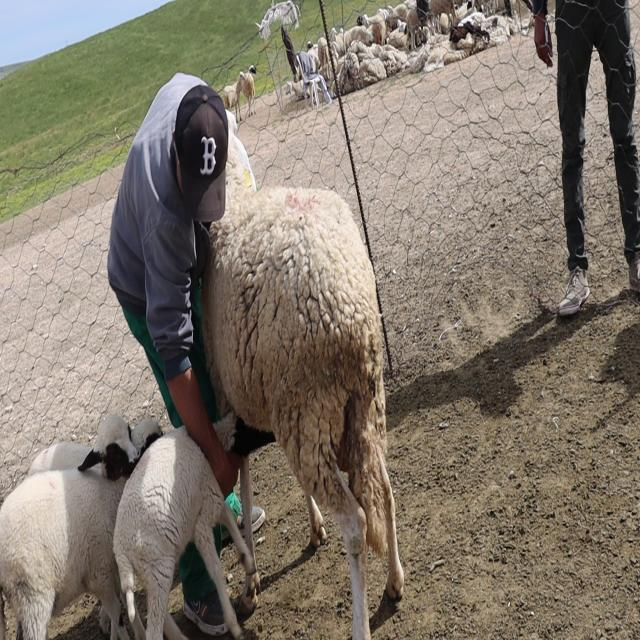Score_2: (201, 114, 404, 639)
